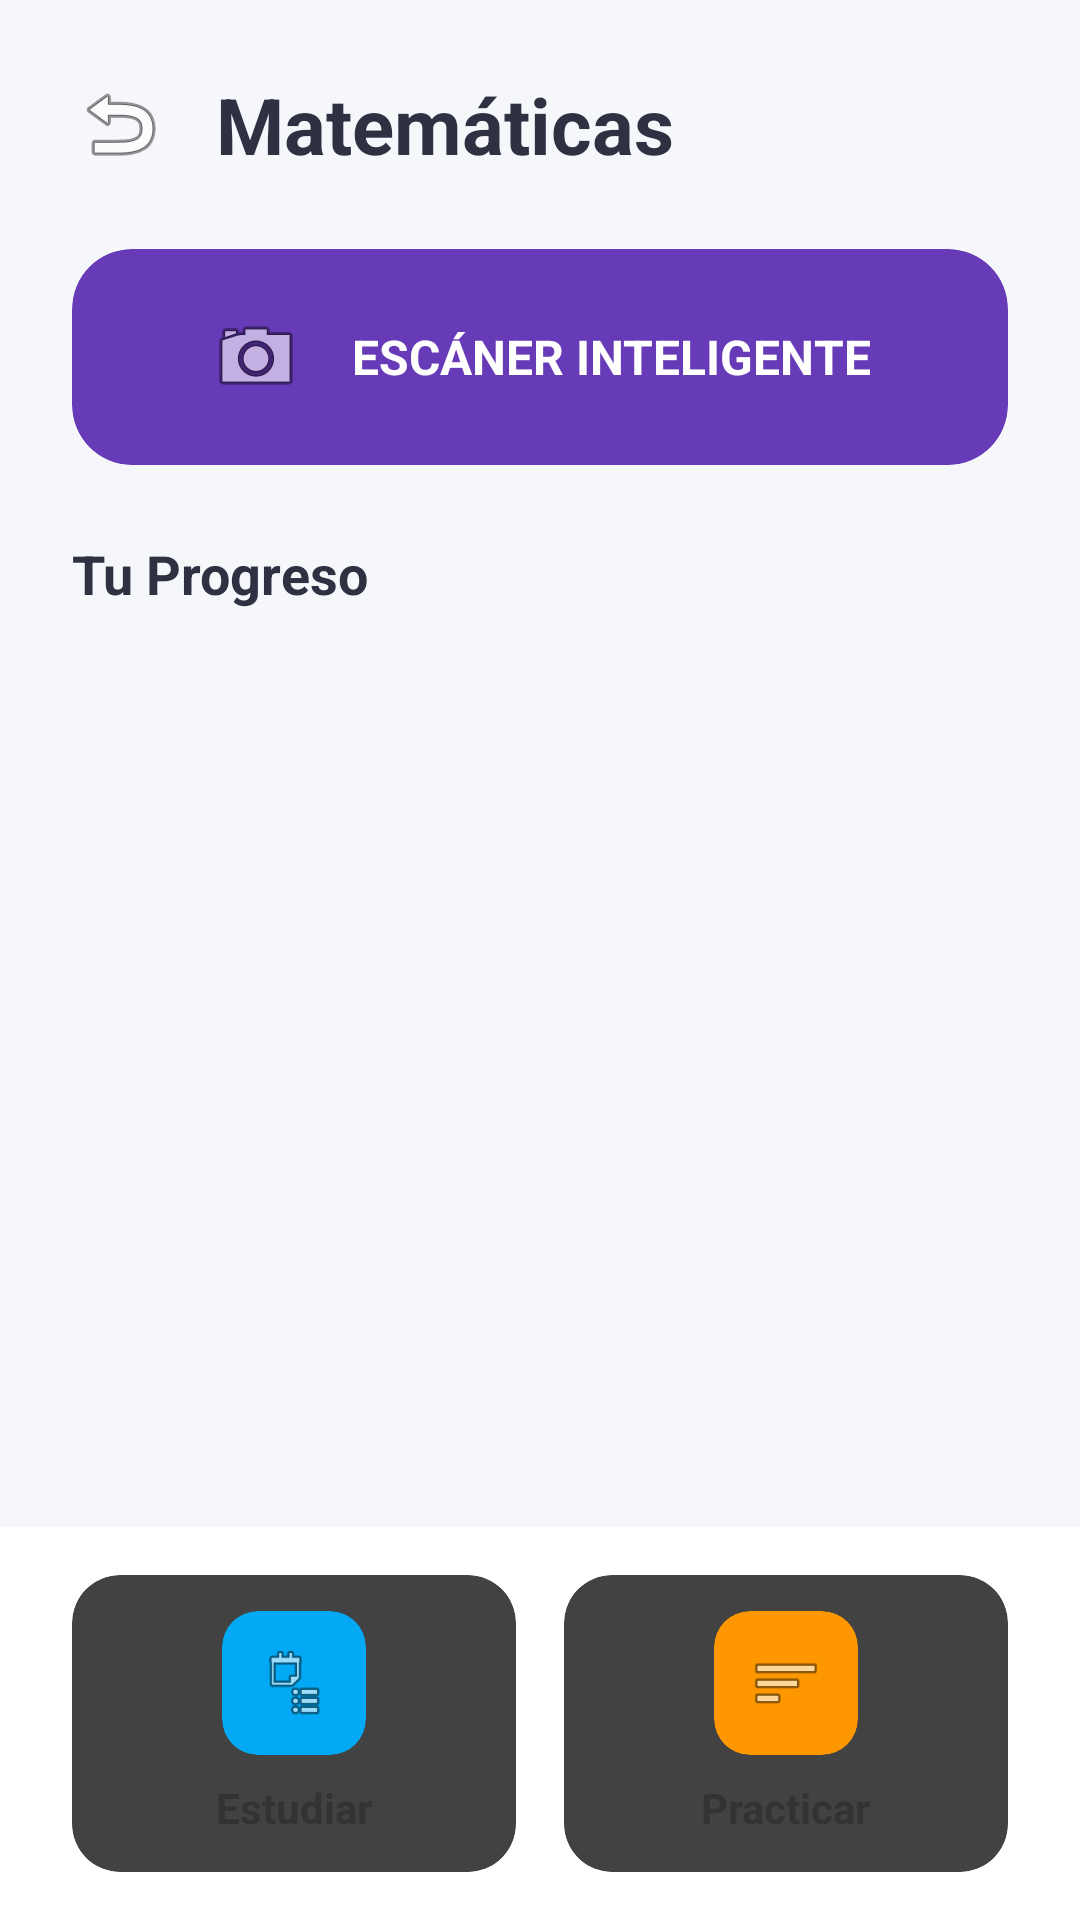

Point at icon controls on the screen. Image size 1080w x 1920h, points as (x,y).
agenda: (294,1683)
camera: (256,355)
revert: (121,124)
sort by size: (786,1683)
